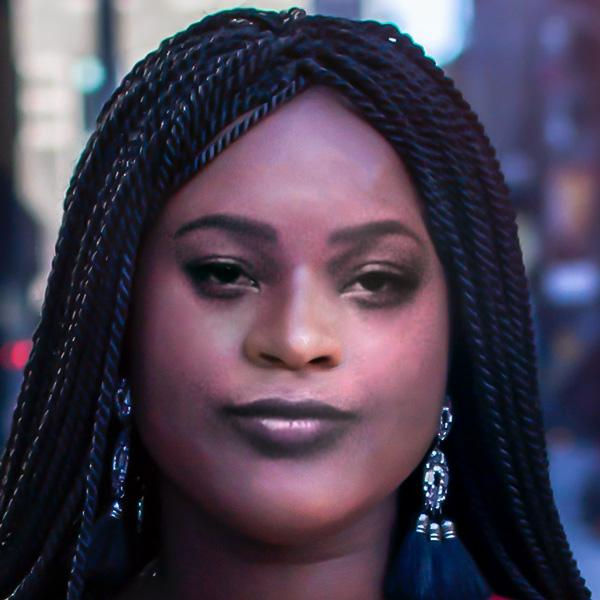Eyes: (178, 242, 269, 309), (332, 248, 421, 313)
